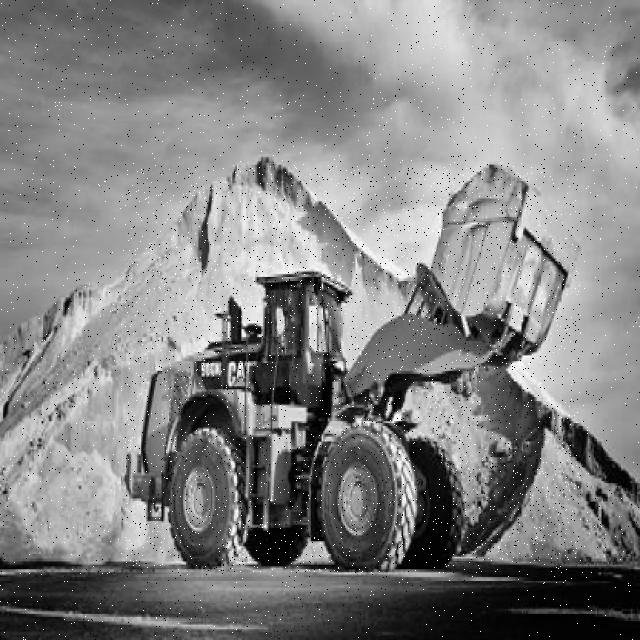Construction Equipment: (125, 164, 581, 573)
